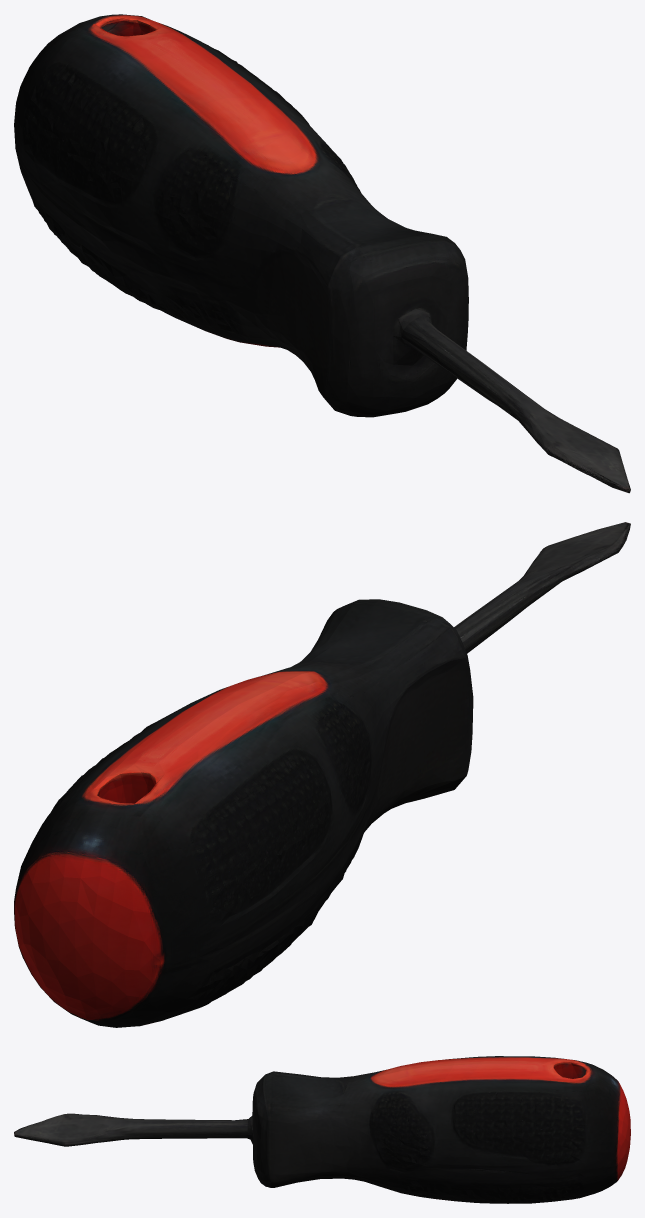
File: red_screwdriver.glb
The picture shows the model from 3 angles, top to bottom: view 1: azimuth 30°, elevation 25°; view 2: azimuth 150°, elevation 25°; view 3: azimuth 270°, elevation 25°; orthographic projection. The views are drawn at different scales.
Visible parts, largest first — view 1: world; view 2: world; view 3: world.
Part boxes in pixels (x1,y1,x2,y2): world: [14, 14, 630, 493]; world: [14, 522, 630, 1027]; world: [14, 1056, 630, 1203].
Size of the model in its own units: 0.2206 by 0.2353 by 0.998.
Materials: 1 (1 with a texture image).
